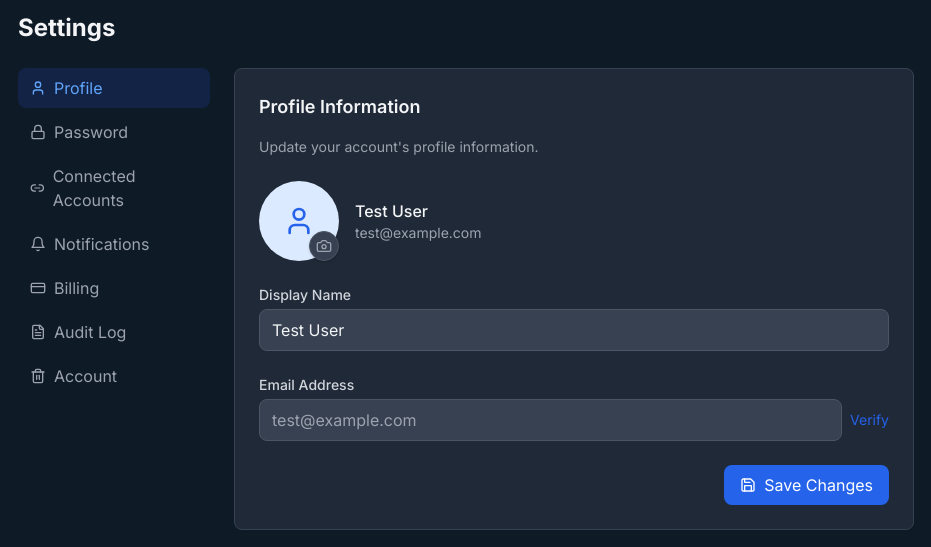
SettingsPage › switches to password section
Click the button "Password": coordinates (114, 132) [18,112,210,152]
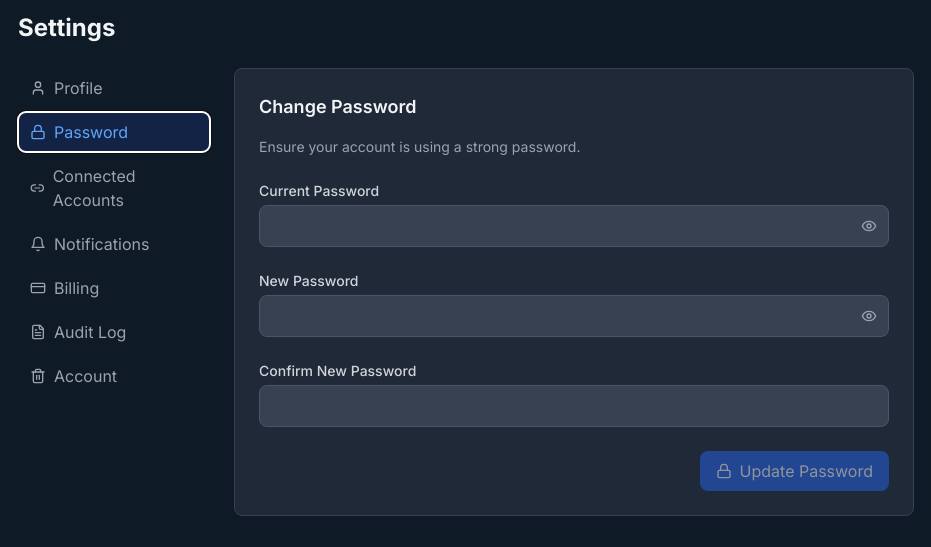
Result: the text "Current Password" is shown at [259,182,379,199]
